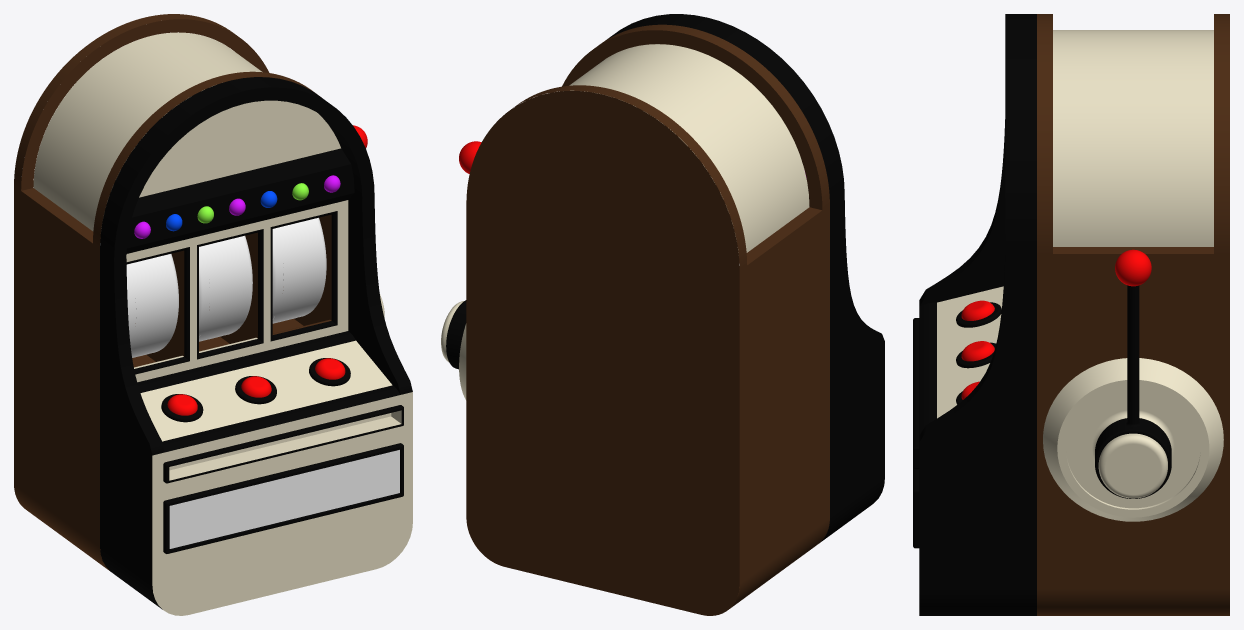
3 renders of one model, left to right at view 1: azimuth 30°, elevation 25°; view 2: azimuth 150°, elevation 25°; view 3: azimuth 270°, elevation 25°, orthographic. The views are drawn at different scales.
Visible parts, largest first — view 1: lightwood, gold, wood, silver, white, Object_88, Object_89, Object_104, red, Object_81, Object_96, Object_97 (+1 smaller); view 2: wood, lightwood, gold; view 3: lightwood, wood, gold, red.
Part boxes in pixels (<box>): lightwood: <box>33,32,412,615</box>; gold: <box>100,77,412,609</box>; wood: <box>14,14,339,570</box>; silver: <box>126,148,354,253</box>; white: <box>169,450,399,548</box>; Object_88: <box>272,217,326,319</box>; Object_89: <box>199,235,252,336</box>; Object_104: <box>100,243,178,353</box>; red: <box>167,125,367,415</box>; Object_81: <box>282,251,316,293</box>; Object_96: <box>209,269,242,311</box>; Object_97: <box>135,287,168,329</box>; wood: <box>466,24,829,615</box>; lightwood: <box>441,44,809,400</box>; gold: <box>446,14,884,543</box>; lightwood: <box>937,30,1223,521</box>; wood: <box>1037,14,1229,615</box>; gold: <box>913,14,1171,615</box>; red: <box>961,249,1151,399</box>.
Bounding box in the file's own units: 173 × 135 × 249.
